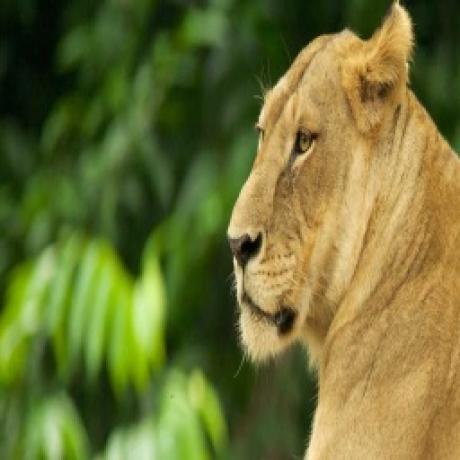Lion: (226, 0, 460, 460)
